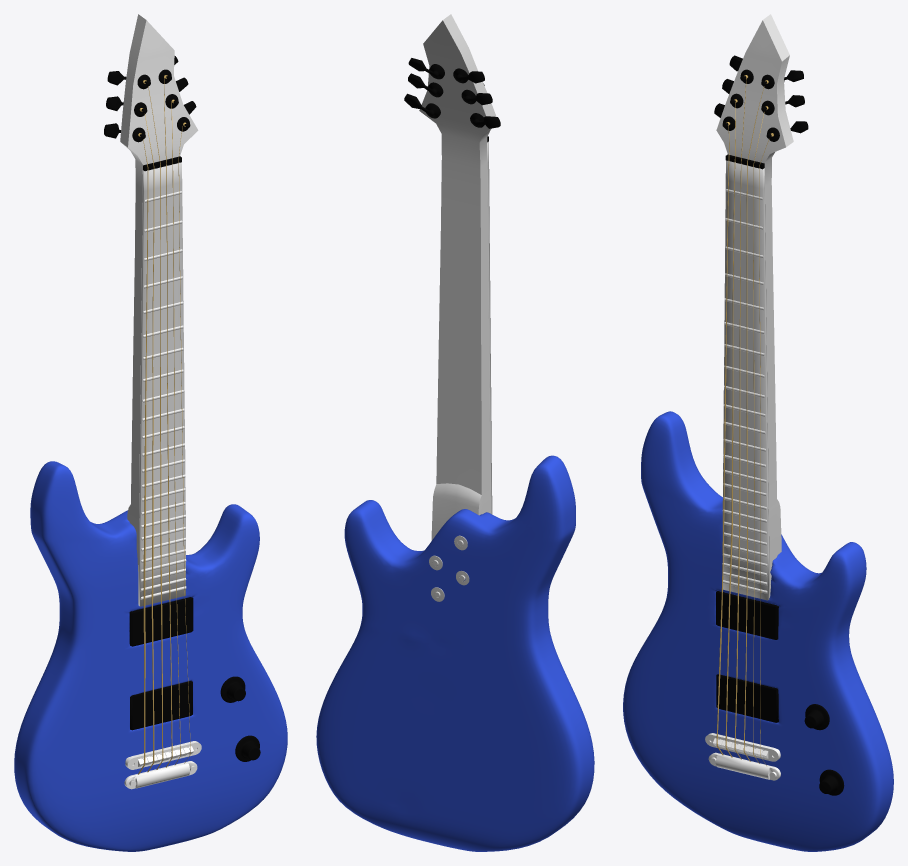
Rendered from gitar_joined.fbx.
The picture shows the model from 3 angles, left to right: view 1: azimuth 30°, elevation 25°; view 2: azimuth 150°, elevation 25°; view 3: azimuth 330°, elevation 25°; orthographic projection. The views are drawn at different scales.
Parts seen in each view (by area): view 1: body.001, Cube.042, Cube.041, Cube.068, Cube.069, Circle.039, Circle.038, Cylinder.004, Circle.043, Circle.040, Circle.042, Cylinder.003 (+3 smaller); view 2: body.001, Cube.041, Cube.042; view 3: body.001, Cube.042, Cube.041, Cube.068, Cube.069, Circle.038, Circle.040, Circle.043, Circle.039, Cylinder.004, Circle.042, Cylinder.003 (+3 smaller).
Boxes of the visible parts, bbox=[...] form: body.001: bbox=[14, 461, 287, 851]; Cube.042: bbox=[138, 162, 185, 606]; Cube.041: bbox=[120, 14, 198, 603]; Cube.068: bbox=[129, 597, 193, 646]; Cube.069: bbox=[130, 681, 192, 730]; Circle.039: bbox=[138, 133, 148, 774]; Circle.038: bbox=[139, 108, 154, 772]; Cylinder.004: bbox=[124, 761, 197, 789]; Circle.043: bbox=[164, 75, 172, 767]; Circle.040: bbox=[143, 80, 163, 769]; Circle.042: bbox=[171, 99, 180, 764]; Cylinder.003: bbox=[125, 741, 201, 769]; body.001: bbox=[316, 455, 594, 851]; Cube.041: bbox=[419, 14, 496, 540]; Cube.042: bbox=[487, 141, 492, 514]; body.001: bbox=[623, 411, 893, 851]; Cube.042: bbox=[722, 160, 769, 600]; Cube.041: bbox=[716, 14, 793, 597]; Cube.068: bbox=[716, 591, 778, 639]; Cube.069: bbox=[716, 674, 778, 722]; Circle.038: bbox=[725, 99, 737, 757]; Circle.040: bbox=[734, 75, 747, 759]; Circle.043: bbox=[743, 80, 768, 761]; Circle.039: bbox=[716, 122, 730, 755]; Cylinder.004: bbox=[708, 752, 780, 780]; Circle.042: bbox=[753, 106, 768, 763]; Cylinder.003: bbox=[705, 733, 780, 761].
Size of the model in its own units: 178 by 537 by 37.15.
